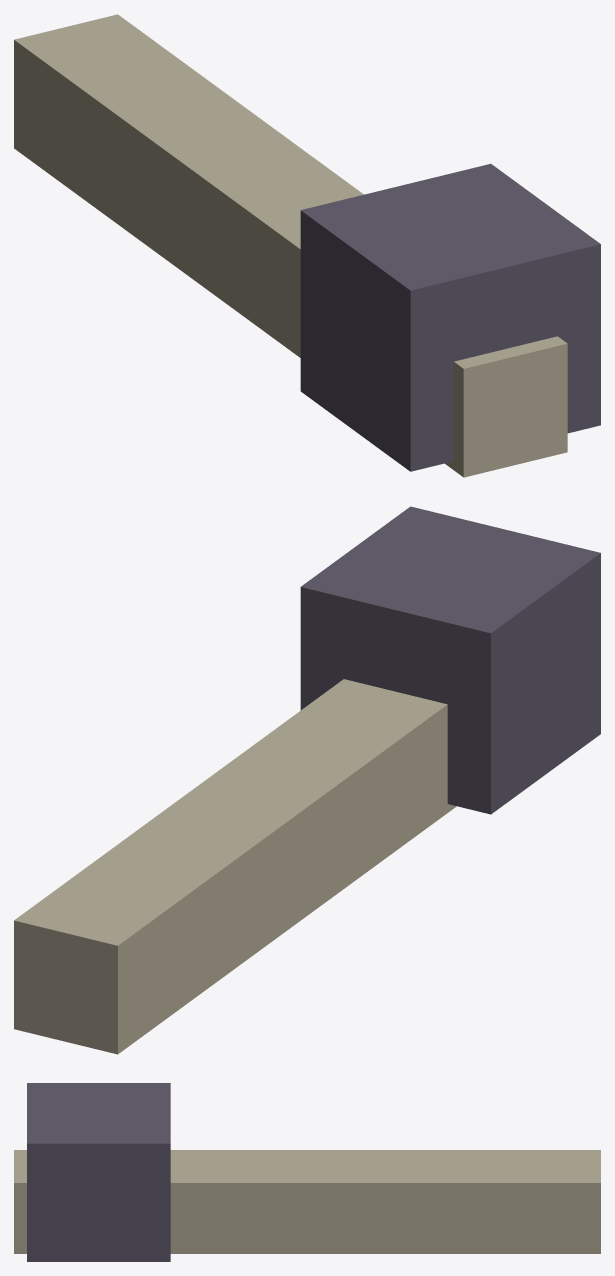
The model's file is wpn_ground_bat.glb.
3 renders of one model, top to bottom at view 1: azimuth 30°, elevation 25°; view 2: azimuth 150°, elevation 25°; view 3: azimuth 270°, elevation 25°, orthographic. The views are drawn at different scales.
Parts seen in each view (by area): view 1: wpn_ground_bat; view 2: wpn_ground_bat; view 3: wpn_ground_bat.
Part boxes in pixels (<box>): wpn_ground_bat: <box>14,14,600,477</box>; wpn_ground_bat: <box>14,506,600,1054</box>; wpn_ground_bat: <box>14,1083,600,1261</box>.
Size of the model in its own units: 0.22 by 0.21 by 0.9.
